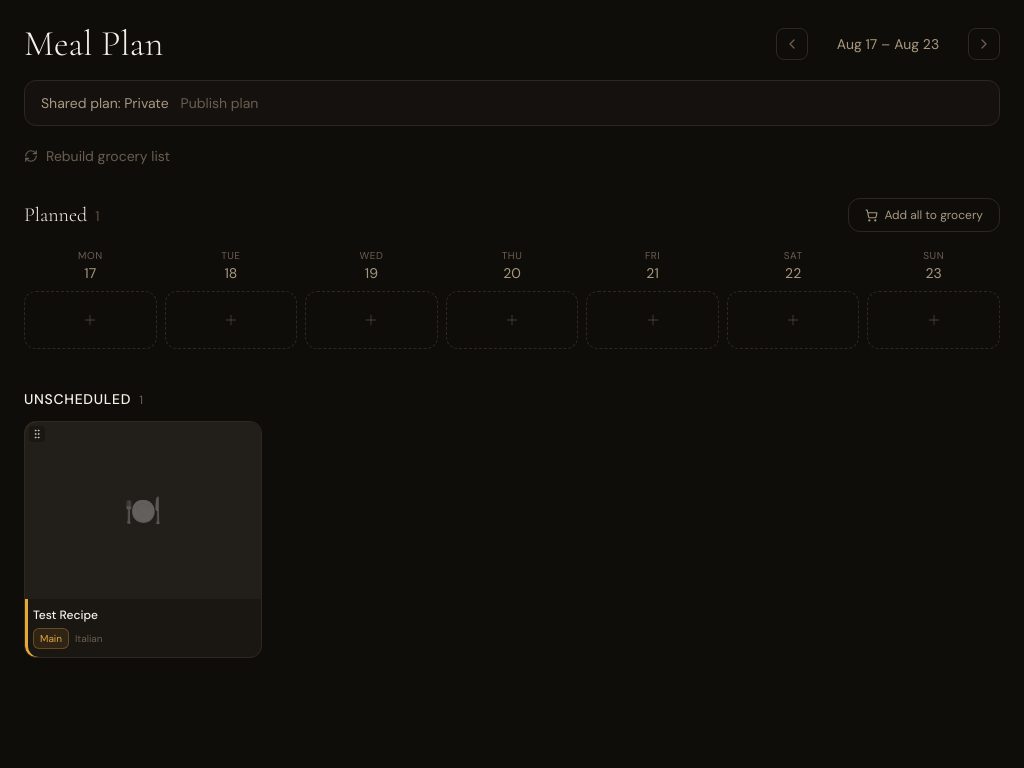
it: plan write errors › reports an atomic grocery rebuild abort and clears the pending state
Click the button "Rebuild grocery list". click: (97, 156)
box: x1=24 y1=146 x2=170 y2=166
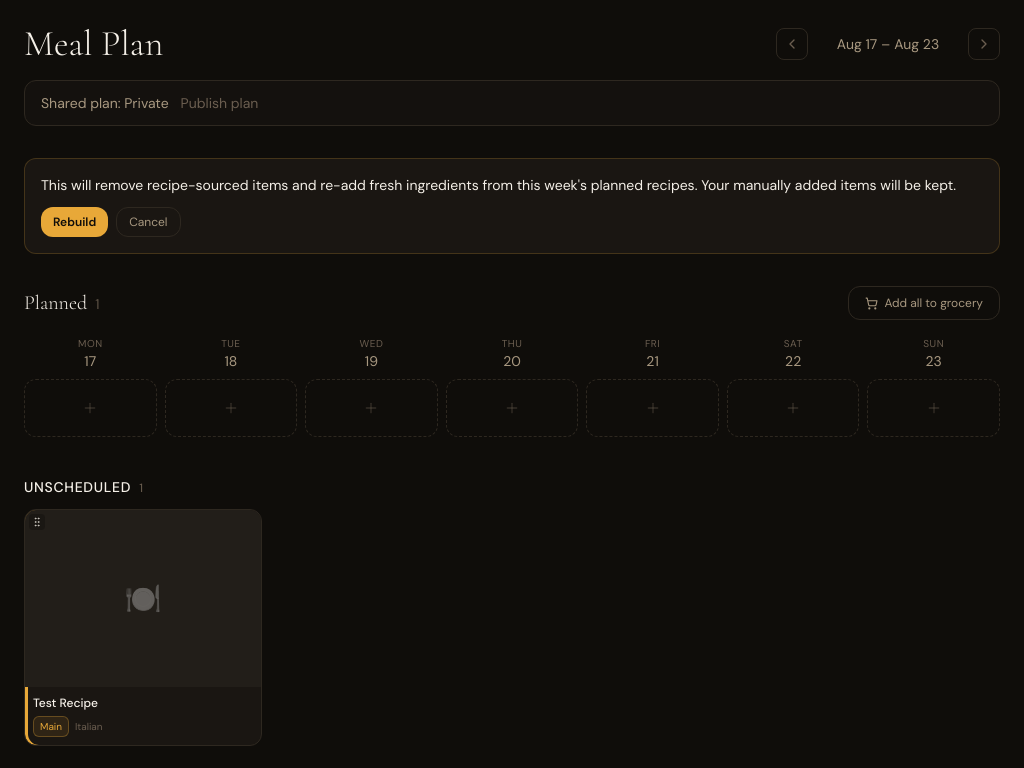
Click the button "Rebuild". click: (75, 222)
box: x1=41 y1=207 x2=108 y2=237
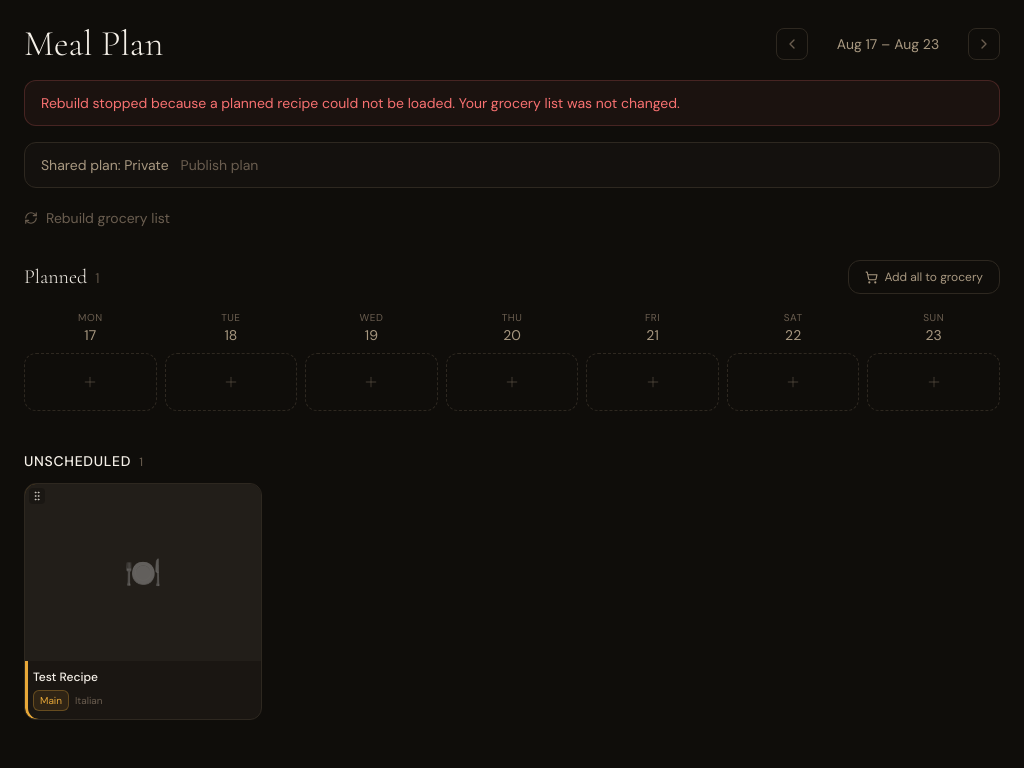
Check: the 1st message shows "grocery list was not changed", box x1=41 y1=94 x2=680 y2=112
Check: the button "Rebuild grocery list" is enabled, box x1=24 y1=208 x2=170 y2=228
